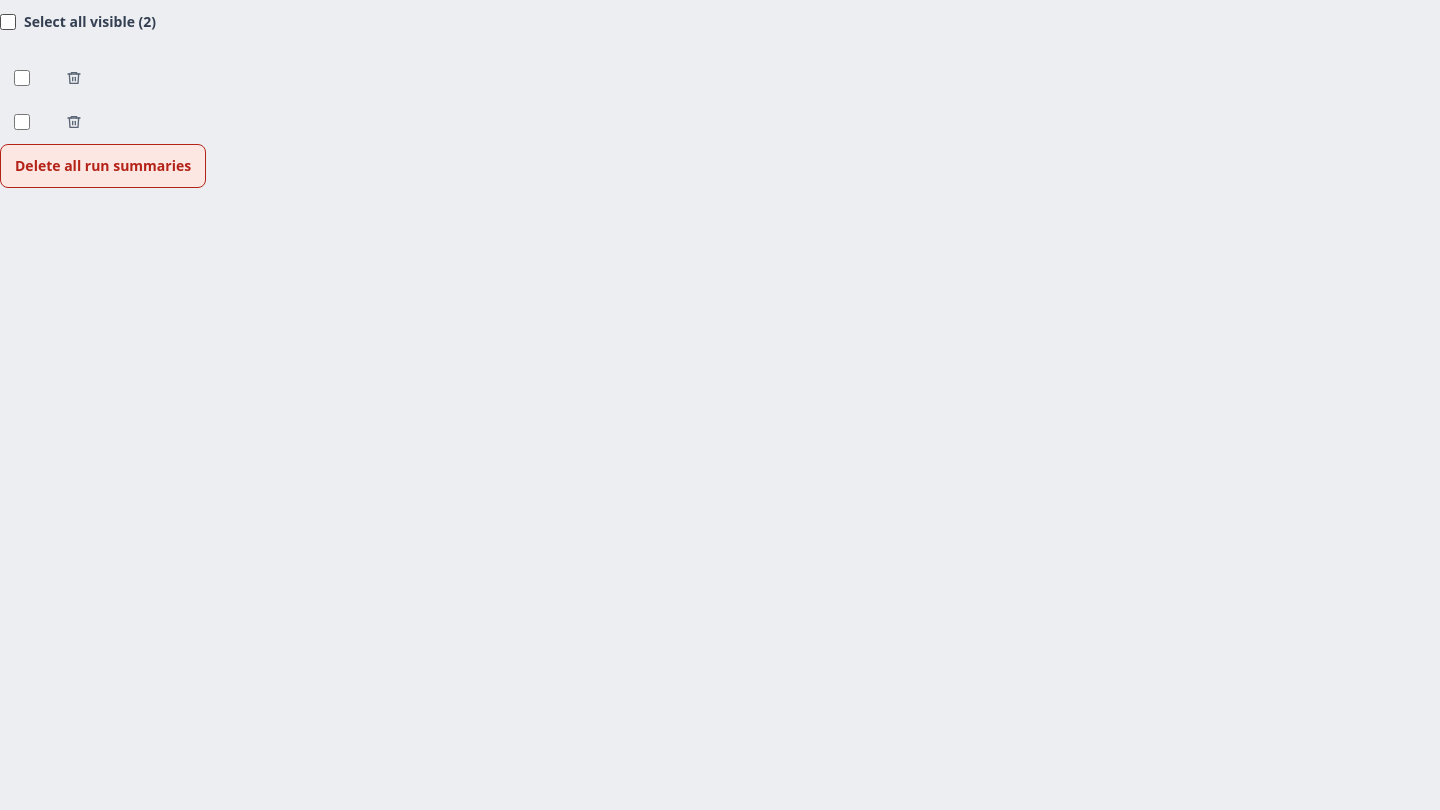
Test: RunHistoryAdminControls › does not refresh on a malformed 401 and retains protected diagnostics
This screenshot has width=1440, height=810.
Step 1. Click the checkbox named "Select run 55555555-5555-4555-8555-555555555555" → [22, 78], box [14, 70, 30, 86]
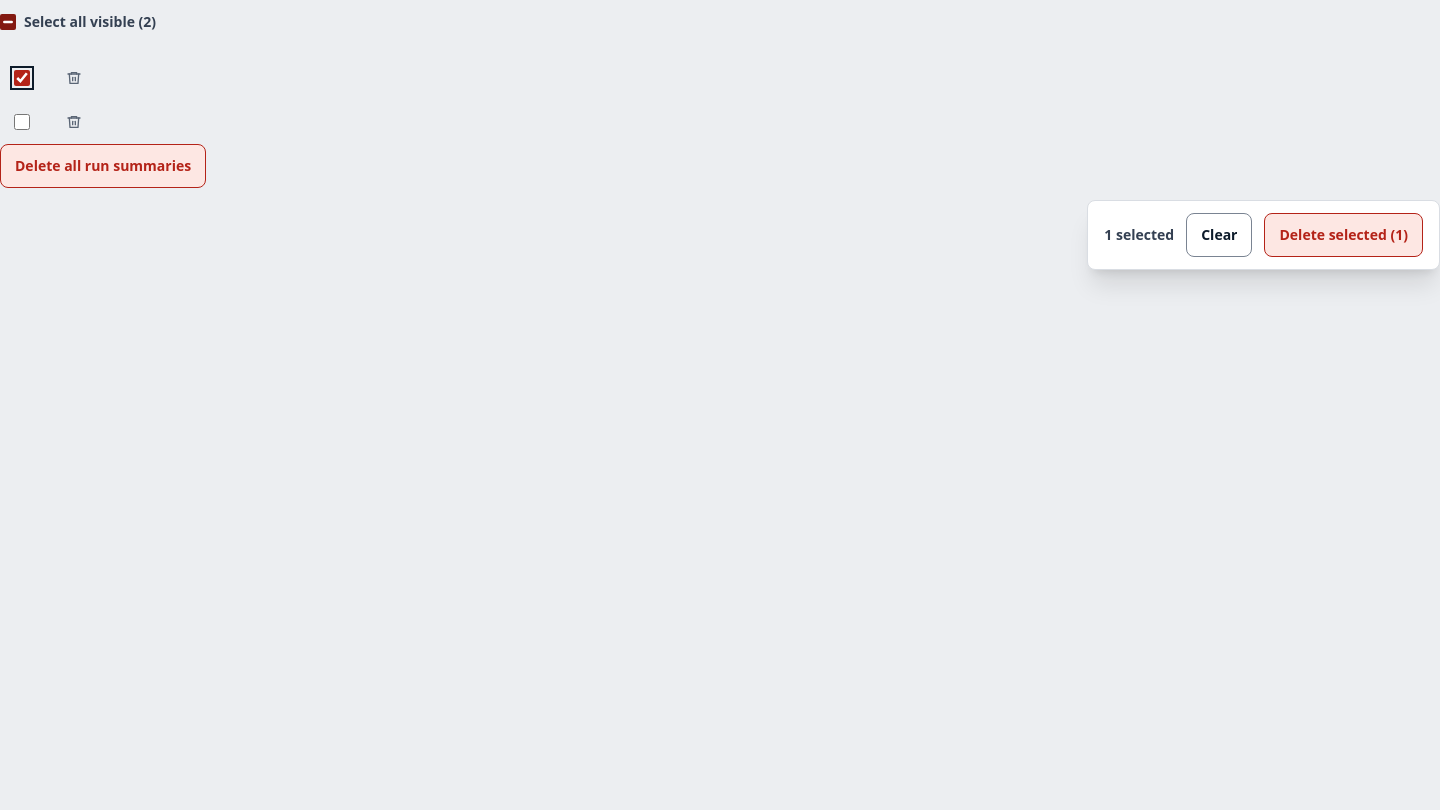
Step 2. Click the button "Delete selected (1)" → [1344, 235], box [1264, 213, 1423, 257]
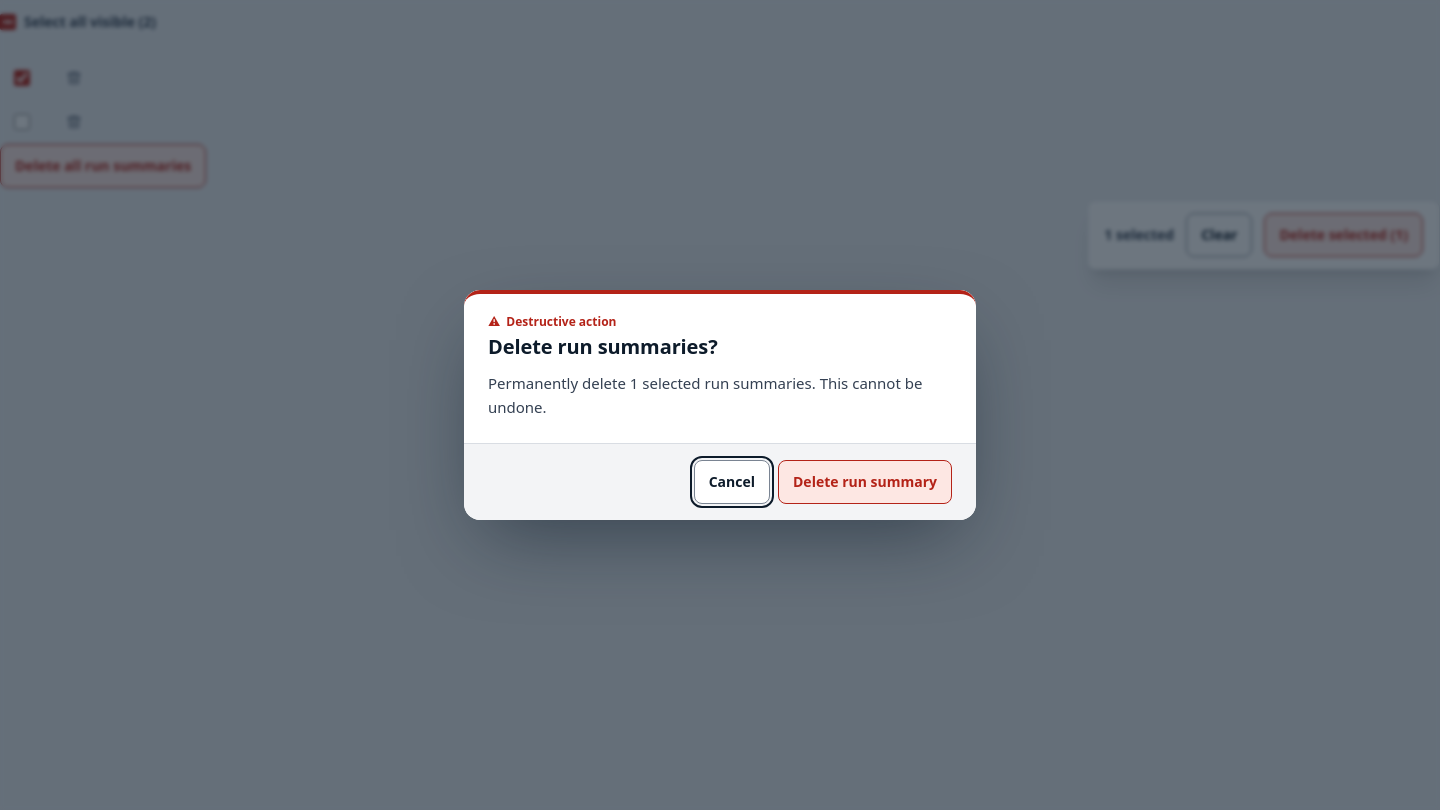
Step 3. Click the button "Delete run summary" → [865, 482], box [778, 460, 952, 504]
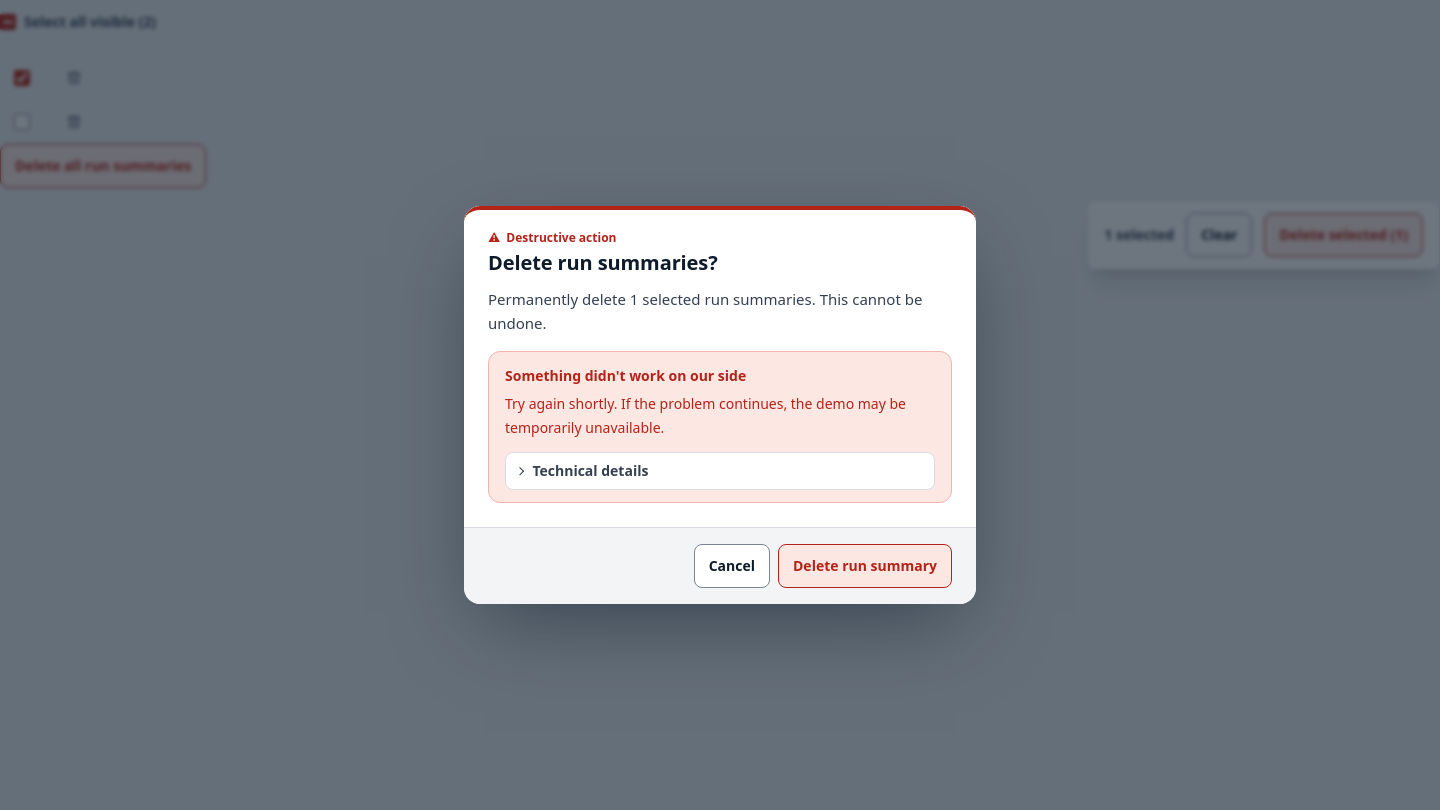
Expected: the message is shown, [488, 351, 952, 503]
Expected: the heading "Technical details" is shown, [518, 461, 648, 481]
Expected: the message shows "Something didn't work on our side", [505, 366, 746, 385]
